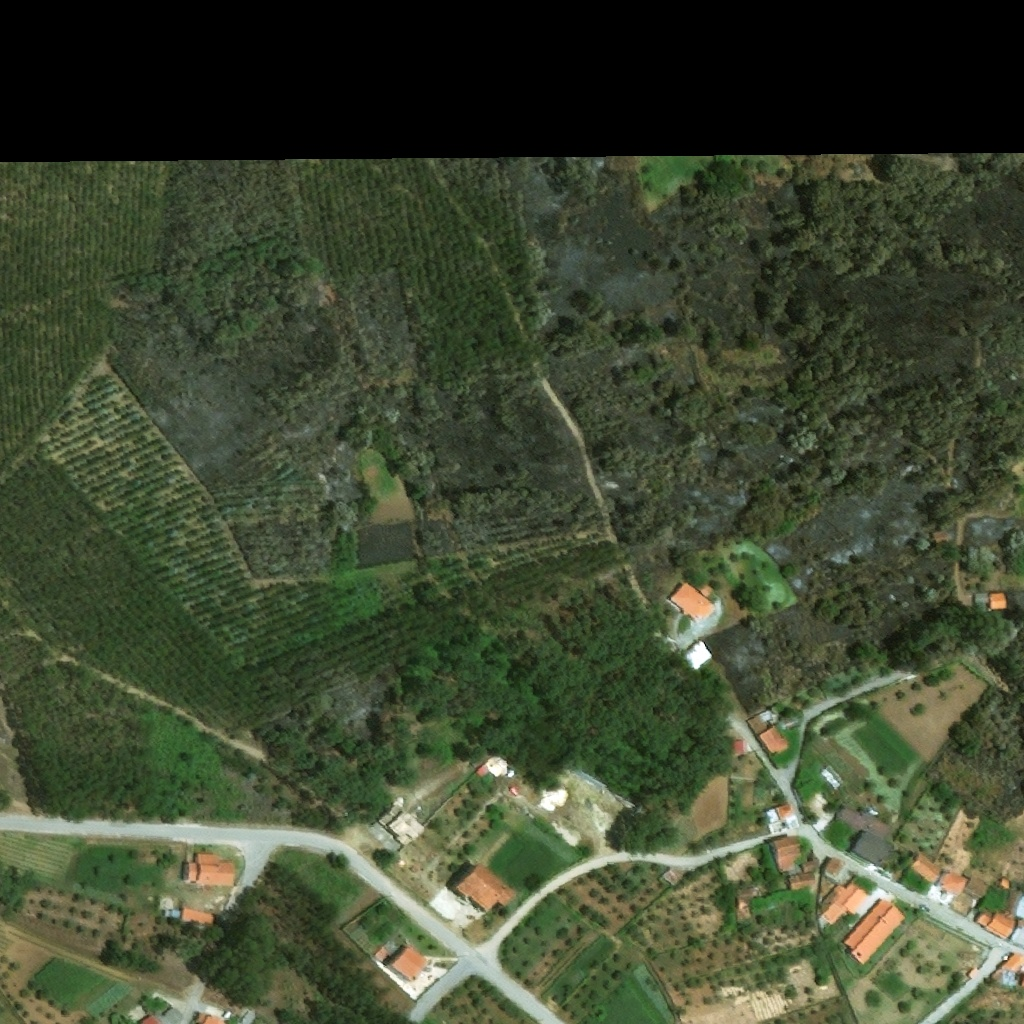0 no-damage: (842, 897, 908, 966), (455, 864, 520, 913), (818, 882, 870, 923), (669, 583, 716, 622), (850, 827, 897, 865), (183, 854, 234, 887), (386, 809, 426, 848), (974, 909, 1017, 941), (391, 945, 427, 980), (774, 836, 802, 872), (759, 727, 790, 756), (912, 854, 941, 884), (684, 640, 713, 670), (139, 1007, 185, 1023), (483, 754, 512, 779), (940, 872, 967, 895), (977, 591, 1009, 610), (822, 856, 846, 879), (180, 909, 212, 925), (966, 877, 988, 899), (657, 869, 680, 889), (788, 873, 816, 889), (746, 715, 768, 734), (736, 885, 759, 902), (198, 1012, 225, 1023), (801, 859, 822, 873), (778, 804, 793, 820), (475, 765, 490, 779), (733, 740, 745, 755)
4 un-classified: (1002, 953, 1023, 973), (1011, 927, 1023, 947), (1013, 898, 1023, 918)
